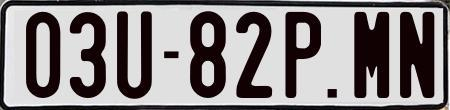0: (25, 11, 65, 98)
2: (234, 10, 276, 100)
3: (68, 12, 109, 98)
8: (190, 9, 226, 96)
M: (354, 12, 394, 101)
N: (398, 12, 434, 103)
P: (283, 9, 323, 95)
U: (116, 9, 153, 98)
